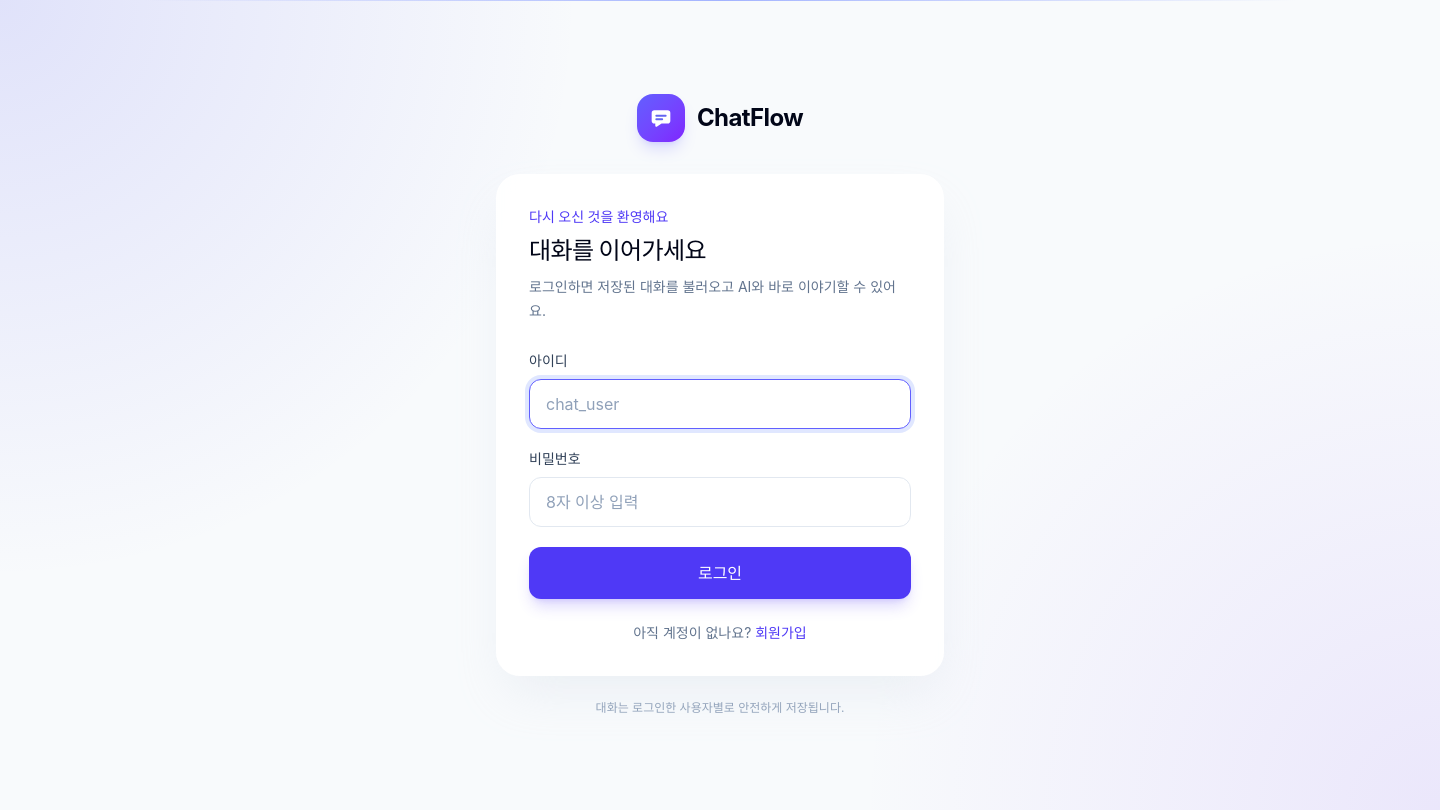
Scenario: ChatFlow application › 관리자가 로그인하면 바로 관리자 화면으로 이동한다
Type "admin_user" into the field labelled "아이디".
click(720, 404); type("admin_user")  # box x1=529 y1=379 x2=911 y2=429
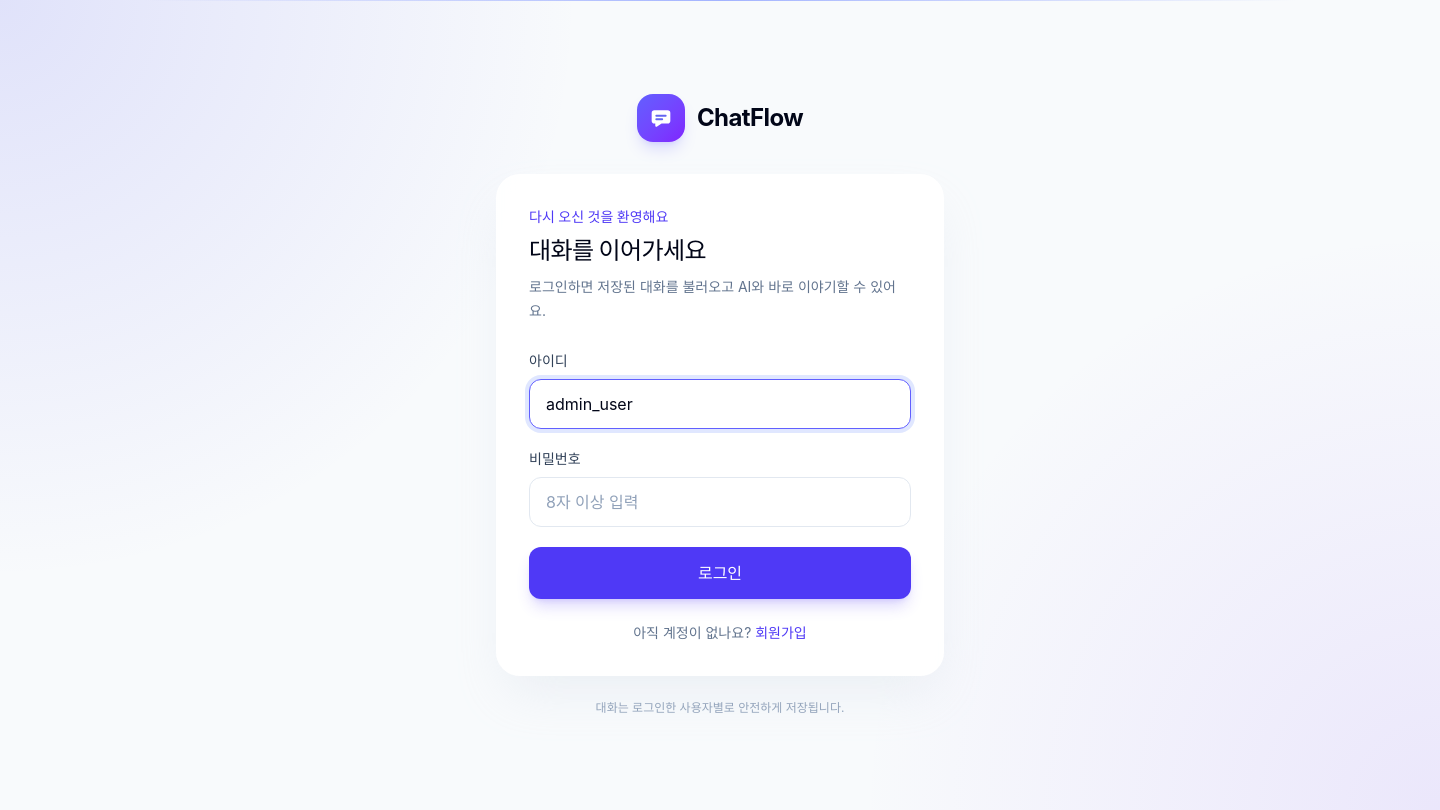
Type "password123" into the password field labelled "비밀번호".
click(720, 502); type("password123")  # box x1=529 y1=477 x2=911 y2=527
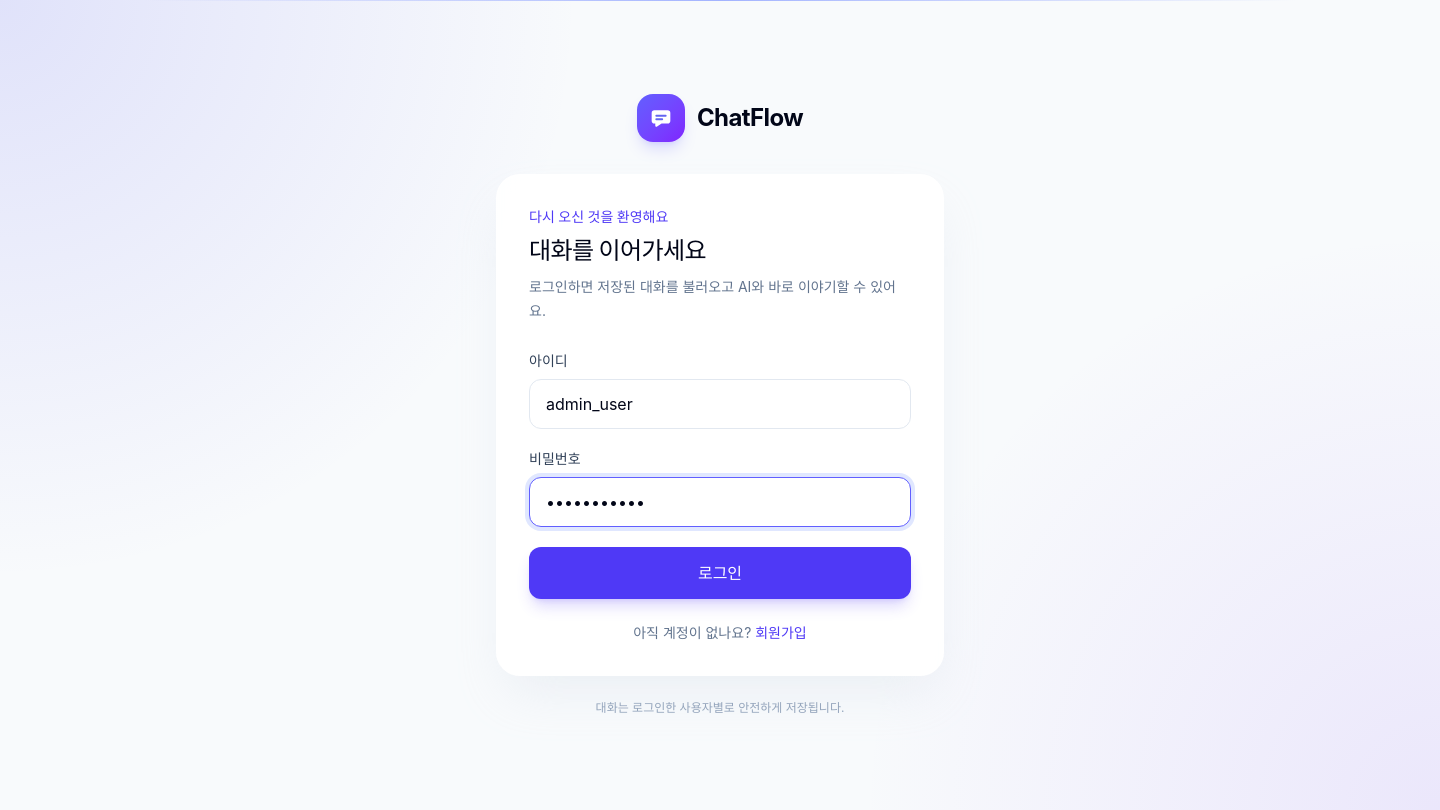
Click the button "로그인".
click(720, 573)  # box x1=529 y1=547 x2=911 y2=599
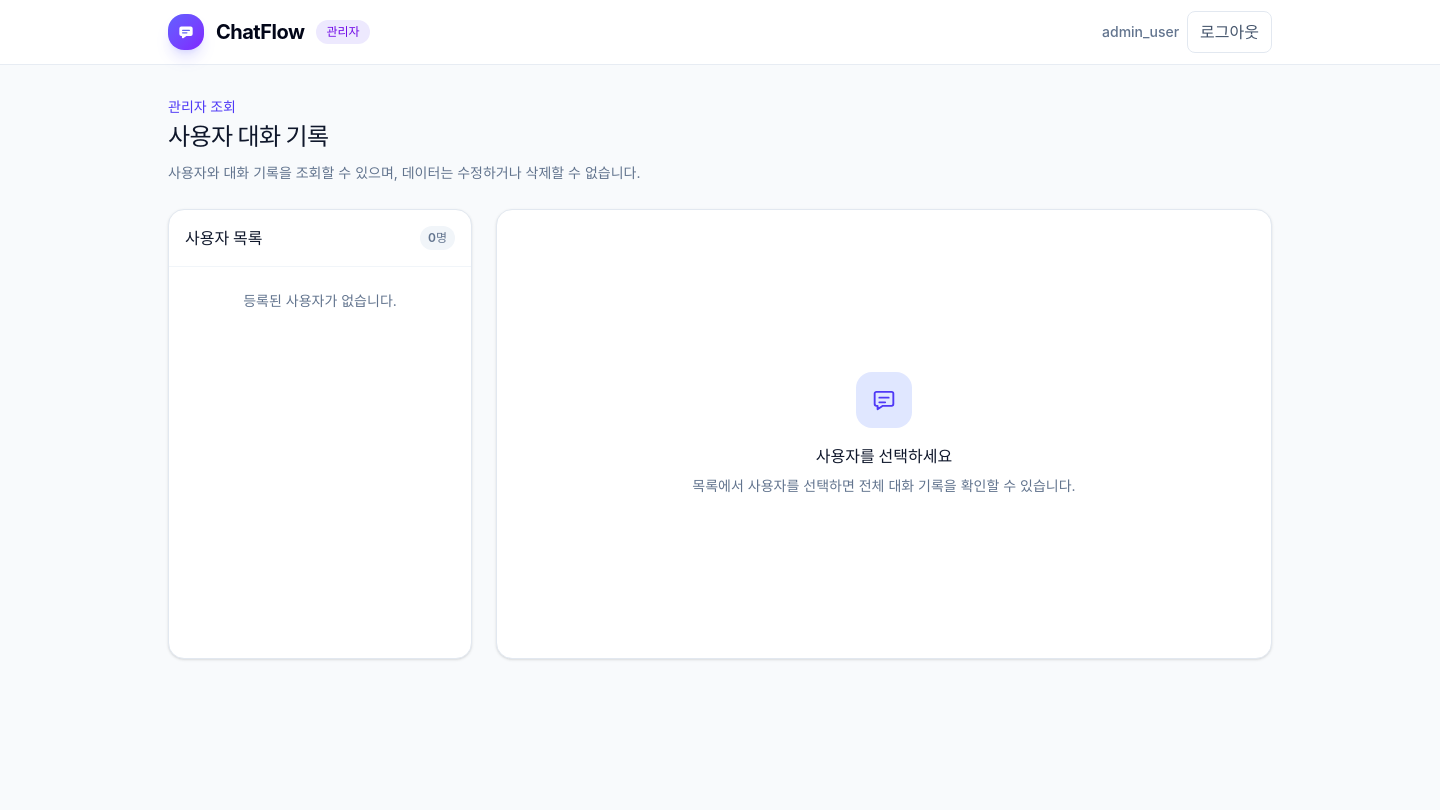
Check: the heading "사용자 대화 기록" is shown, box x1=168 y1=122 x2=328 y2=151
